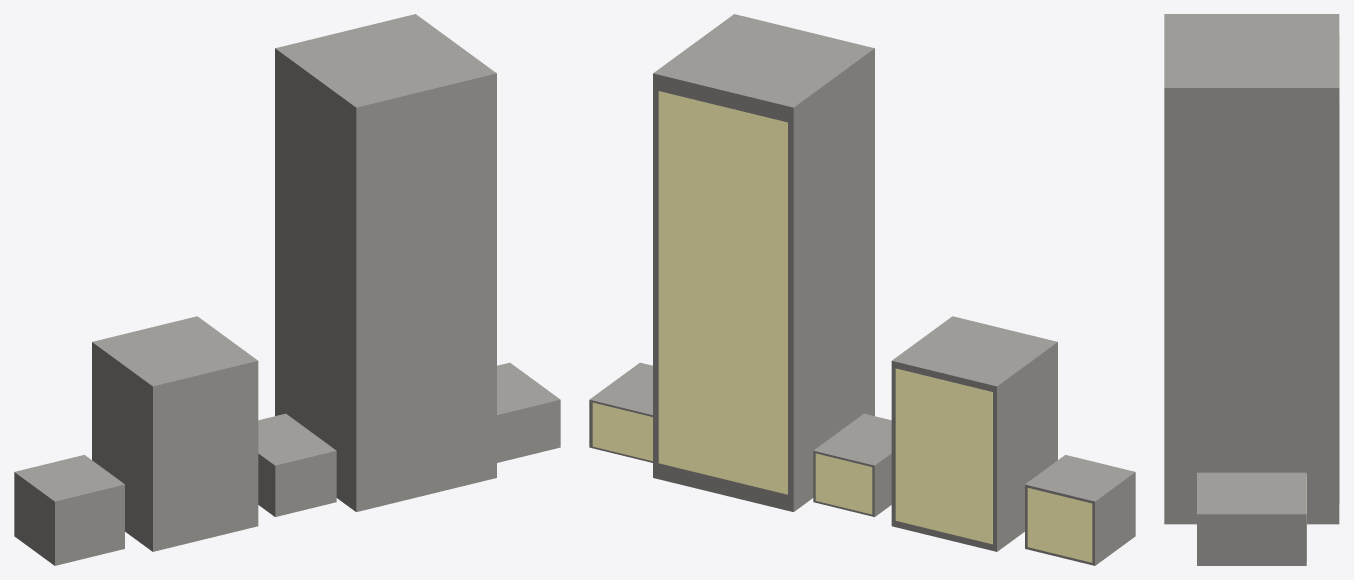
The model's file is building-kit.glb.
The picture shows the model from 3 angles, left to right: view 1: azimuth 30°, elevation 25°; view 2: azimuth 150°, elevation 25°; view 3: azimuth 270°, elevation 25°; orthographic projection. The views are drawn at different scales.
Visible parts, largest first — view 1: Building4, Building2, Building1, Building3, Building5; view 2: Building4, Building4Windows, Building2, Building2Windows, Building1, Building3, Building1Windows, Building3Windows, Building5Windows, Building5; view 3: Building4, Building5, Building4Windows.
Part boxes in pixels (x1=…): Building4: x1=275, y1=14, x2=496, y2=511; Building2: x1=92, y1=316, x2=258, y2=551; Building1: x1=14, y1=455, x2=124, y2=565; Building3: x1=258, y1=413, x2=336, y2=516; Building5: x1=497, y1=362, x2=560, y2=462; Building4: x1=653, y1=14, x2=874, y2=511; Building4Windows: x1=658, y1=91, x2=787, y2=494; Building2: x1=891, y1=316, x2=1057, y2=551; Building2Windows: x1=895, y1=368, x2=992, y2=544; Building1: x1=1025, y1=455, x2=1135, y2=565; Building3: x1=813, y1=413, x2=891, y2=516; Building1Windows: x1=1027, y1=488, x2=1092, y2=562; Building3Windows: x1=815, y1=453, x2=872, y2=514; Building5Windows: x1=592, y1=402, x2=652, y2=461; Building5: x1=589, y1=362, x2=652, y2=462; Building4: x1=1164, y1=14, x2=1339, y2=524; Building5: x1=1197, y1=472, x2=1306, y2=565; Building4Windows: x1=1339, y1=34, x2=1339, y2=503.
Size of the model in its own units: 28.5 by 22 by 8.02.
